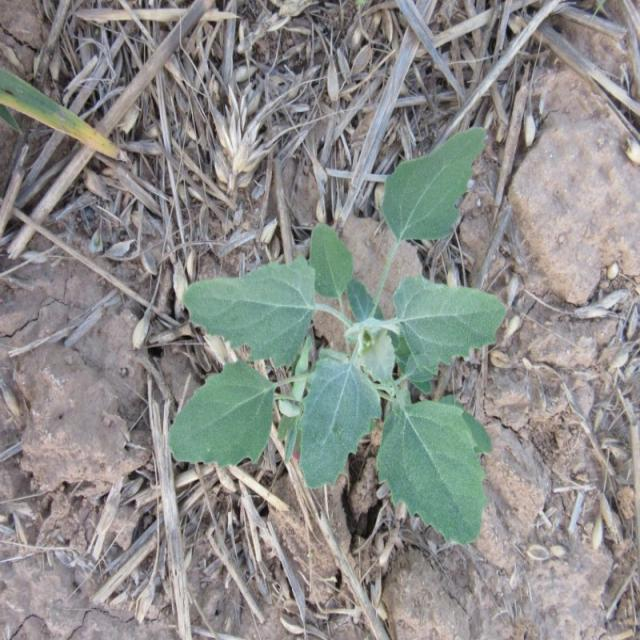ca: (170, 126, 501, 538)
